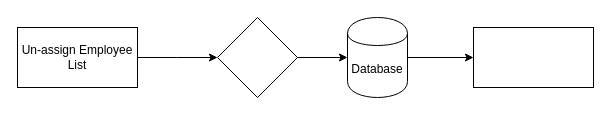
Some shapes in this 611 by 115 pixel diagram are drawn without their labels. Each missing label, with the centre of its shape:
"List of employee assign to department" belongs at [533,57].
"Validation" belongs at [257,57].
